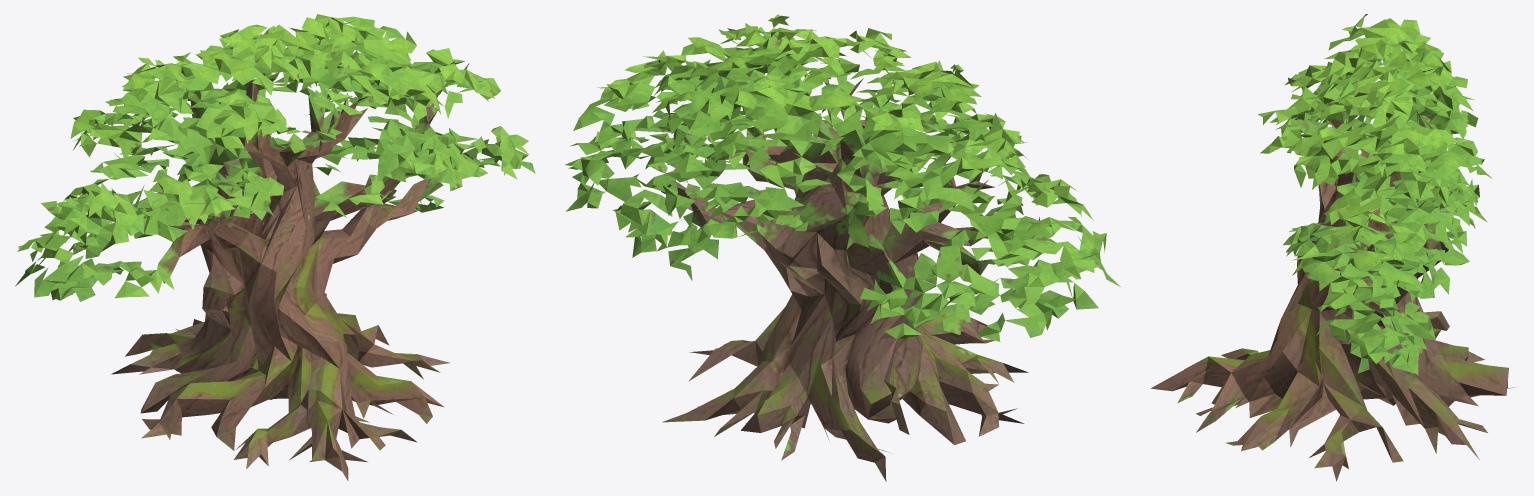
Rendered from forest_oak.glb.
3 views of the same model, side by side, from view 1: azimuth 30°, elevation 25°; view 2: azimuth 150°, elevation 25°; view 3: azimuth 270°, elevation 25° (orthographic). The views are drawn at different scales.
Visible parts, largest first — view 1: output_unwrapped; view 2: output_unwrapped; view 3: output_unwrapped.
Part boxes in pixels (x1,y1,x2,y2): output_unwrapped: (15, 14, 535, 480); output_unwrapped: (565, 14, 1120, 481); output_unwrapped: (1150, 14, 1515, 481).
Size of the model in its own units: 1.85 by 1.25 by 1.19.
1 material, 1 textured.
